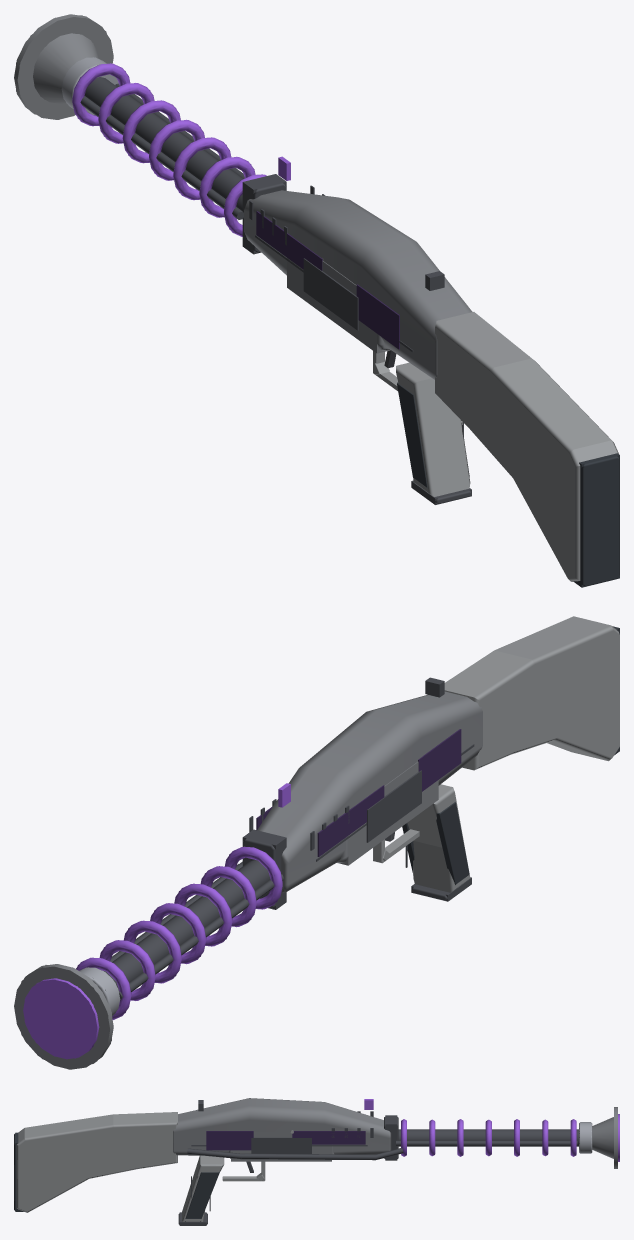
File: x_grav.glb
3 renders of one model, top to bottom at view 1: azimuth 30°, elevation 25°; view 2: azimuth 150°, elevation 25°; view 3: azimuth 270°, elevation 25°, orthographic. The views are drawn at different scales.
Parts seen in each view (by area): view 1: L0, L1; view 2: L0, L1; view 3: L0, L1.
Boxes of the visible parts, x1,y1,x2,y2 form: L0: [14, 14, 619, 586]; L1: [16, 15, 619, 587]; L0: [14, 616, 619, 1069]; L1: [14, 626, 619, 1069]; L0: [14, 1098, 619, 1224]; L1: [15, 1108, 619, 1225].
Size of the model in its own units: 0.0924 by 0.1989 by 0.9008.
